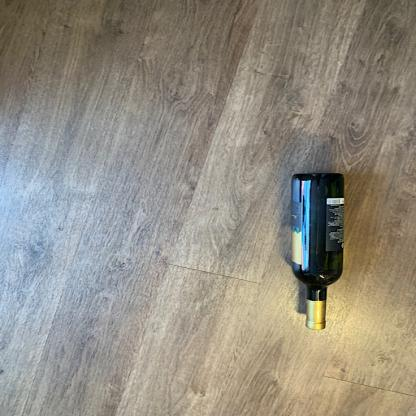trash: (287, 171, 346, 332)
